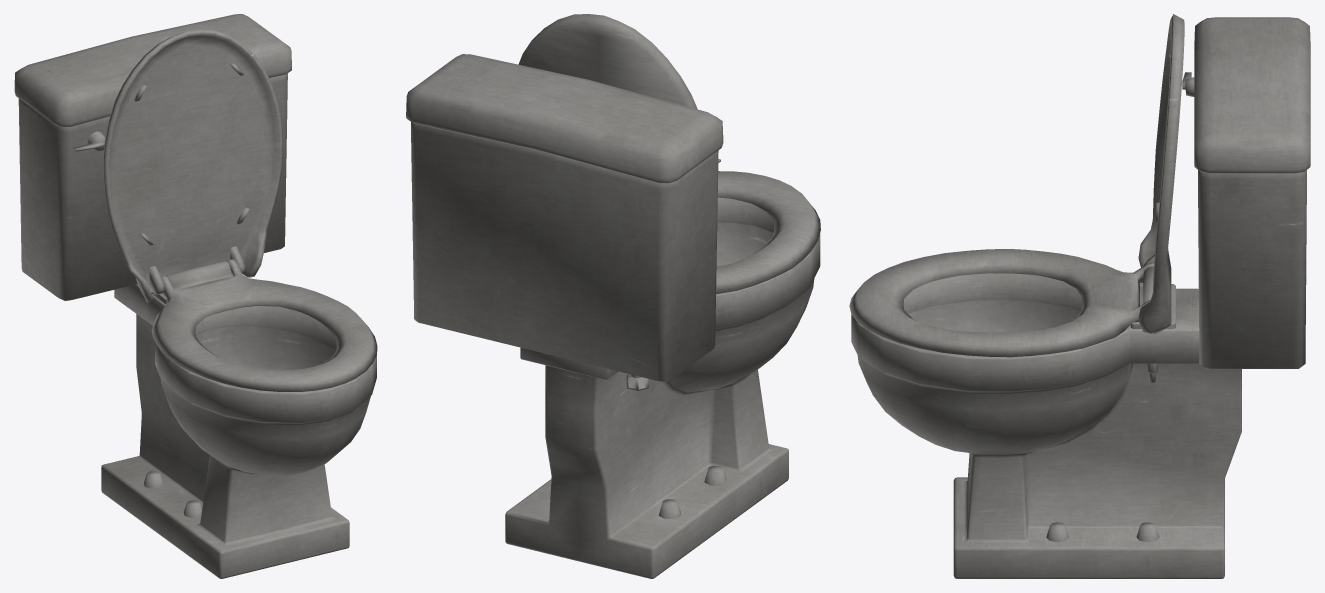
The model's file is Toilet - Stainless.glb.
3 views of the same model, side by side, from view 1: azimuth 30°, elevation 25°; view 2: azimuth 150°, elevation 25°; view 3: azimuth 270°, elevation 25° (orthographic). The views are drawn at different scales.
Visible parts, largest first — view 1: toiletStainlessSteelHigh; view 2: toiletStainlessSteelHigh; view 3: toiletStainlessSteelHigh.
Part boxes in pixels (box(x1,y1,x2,y2)): toiletStainlessSteelHigh: box(14, 14, 377, 578); toiletStainlessSteelHigh: box(406, 14, 820, 578); toiletStainlessSteelHigh: box(849, 14, 1310, 578).
Bounding box in the file's own units: 0.4625 × 0.8629 × 0.6902.
Materials: 2 (2 with a texture image).
